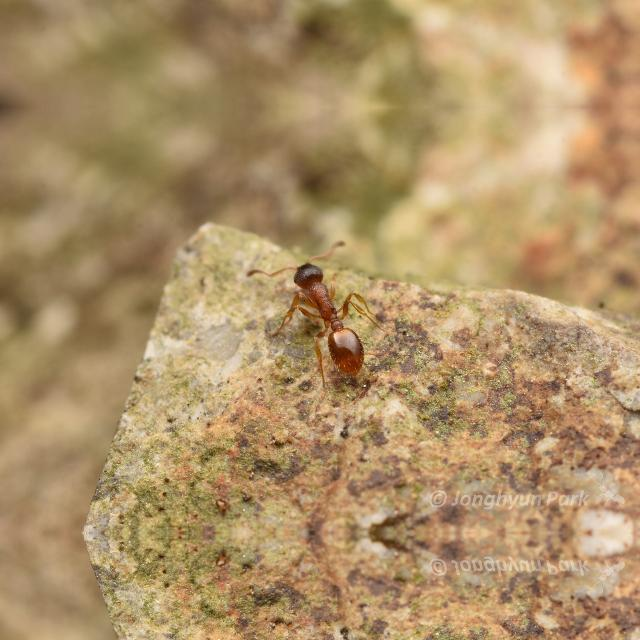Temnothorax: (248, 233, 400, 381)
